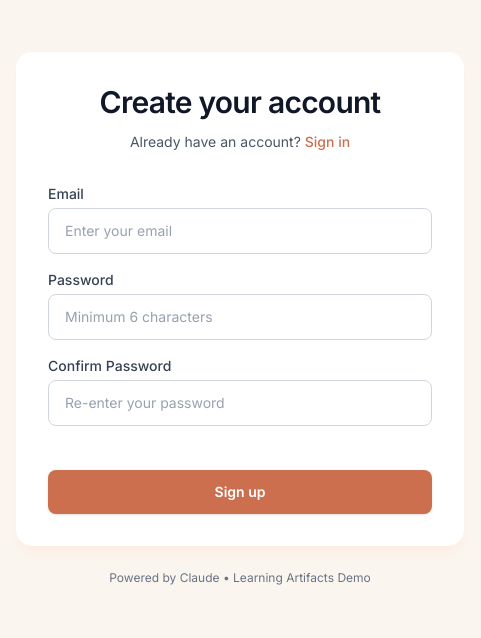
SignupPage › validates password length
The width and height of the screenshot is (481, 638).
In the field with placeholder "Enter your email": (240, 231) x1=48 y1=208 x2=432 y2=254, type "test@example.com"
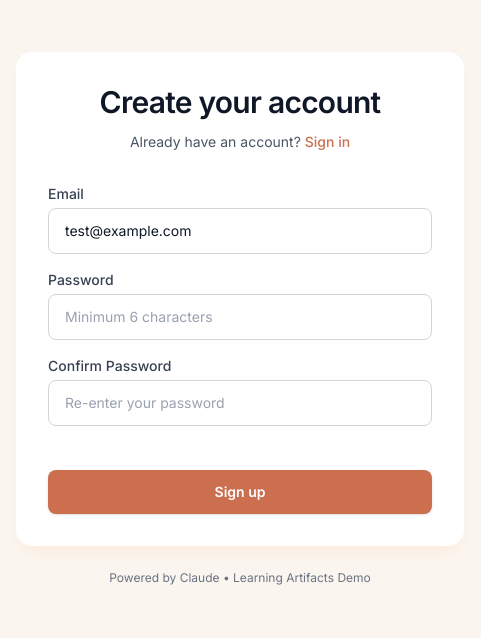
In the password field with placeholder "Minimum 6 characters": (240, 317) x1=48 y1=294 x2=432 y2=340, type "12345"
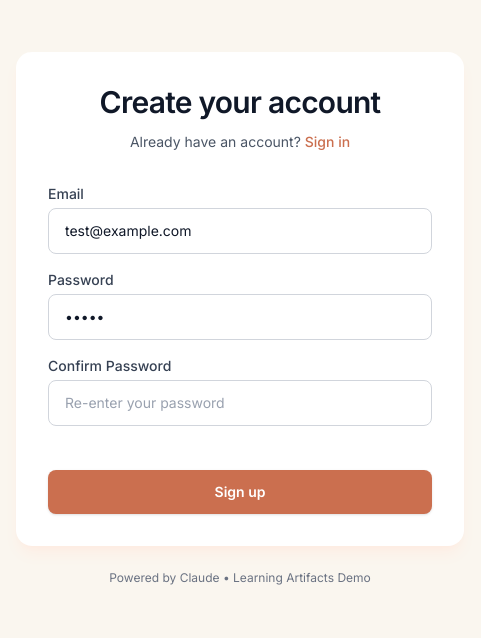
In the password field with placeholder "Re-enter your password": (240, 403) x1=48 y1=380 x2=432 y2=426, type "12345"
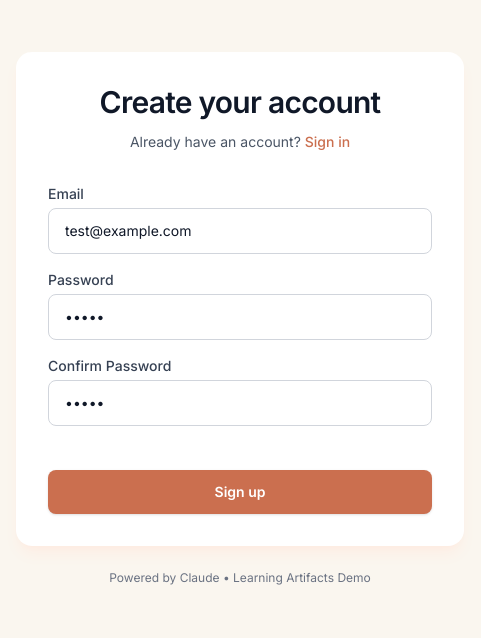
Click the button "Sign up": (240, 492) x1=48 y1=470 x2=432 y2=514
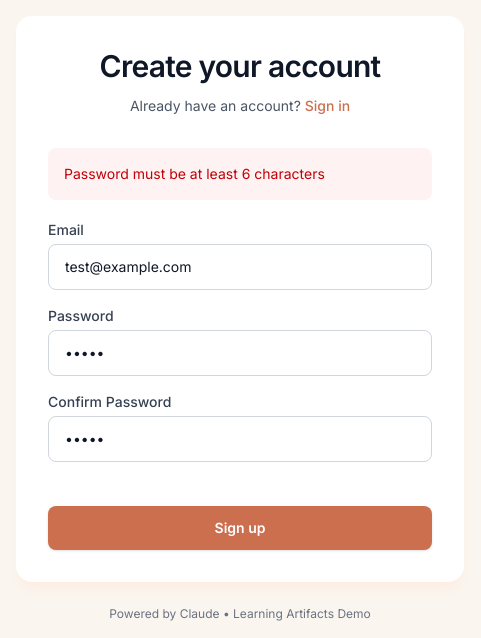
Expected: the text "Password must be at least 6 characters" is shown, x1=64 y1=165 x2=325 y2=182
